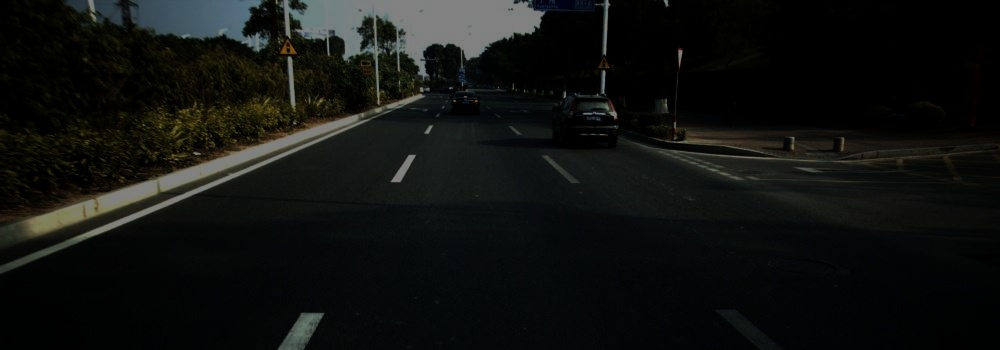Warning Signs: (276, 35, 301, 58), (594, 53, 613, 71)
